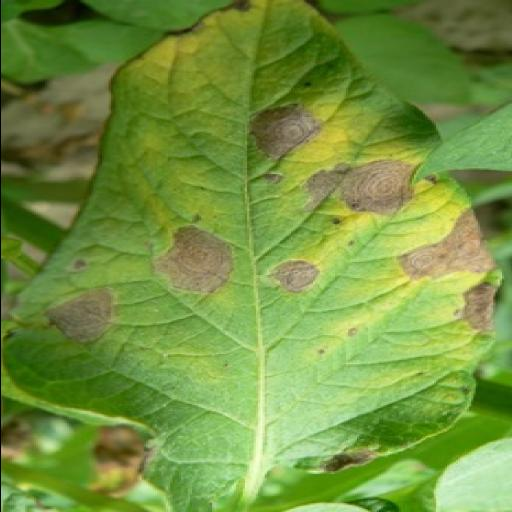Early Blight: (0, 0, 503, 476)
